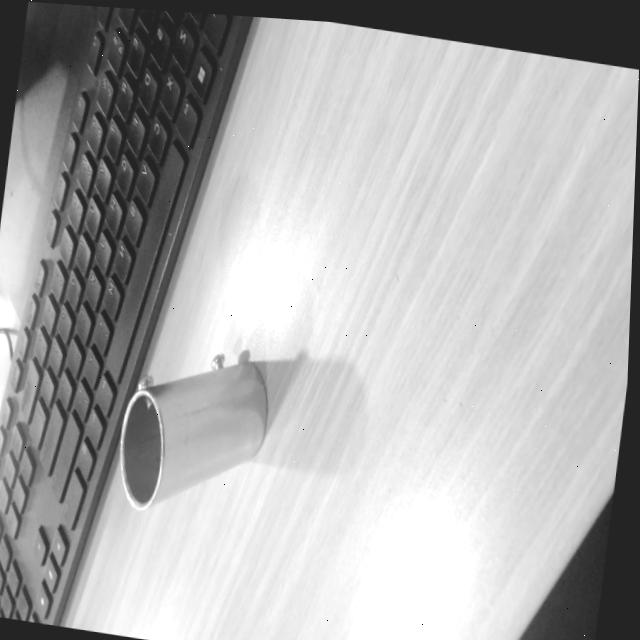Co_Lon: (84, 332, 290, 513)
